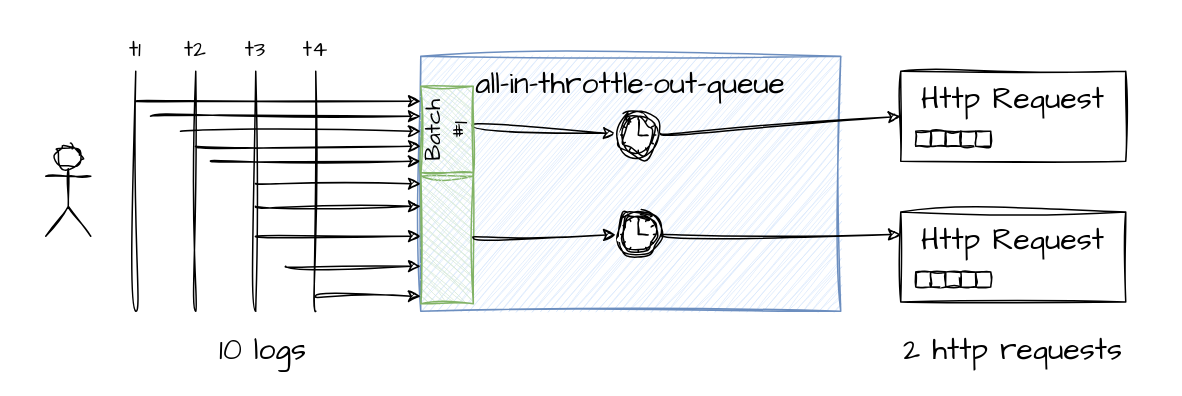
Image size: 1182x396. Some labels were removed from this diagram. Each missing label, with the box of its shape:
Actor: (44, 145, 91, 236)
Batch #2: (419, 171, 473, 304)
